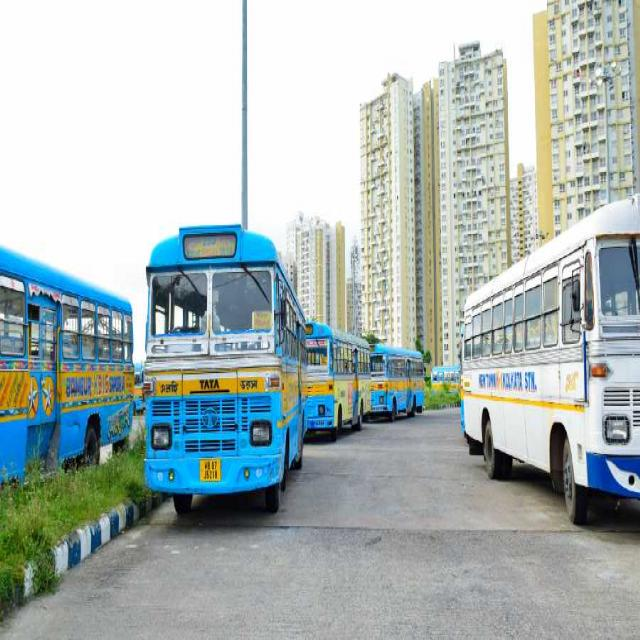bus: (464, 197, 640, 529), (145, 224, 306, 508), (0, 245, 133, 526), (304, 323, 372, 437), (368, 345, 426, 430)
